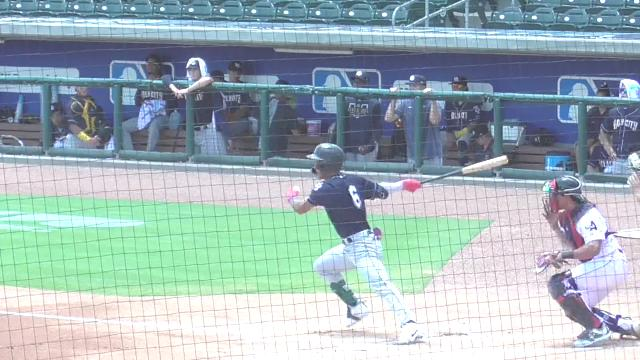bat: (422, 155, 508, 185)
